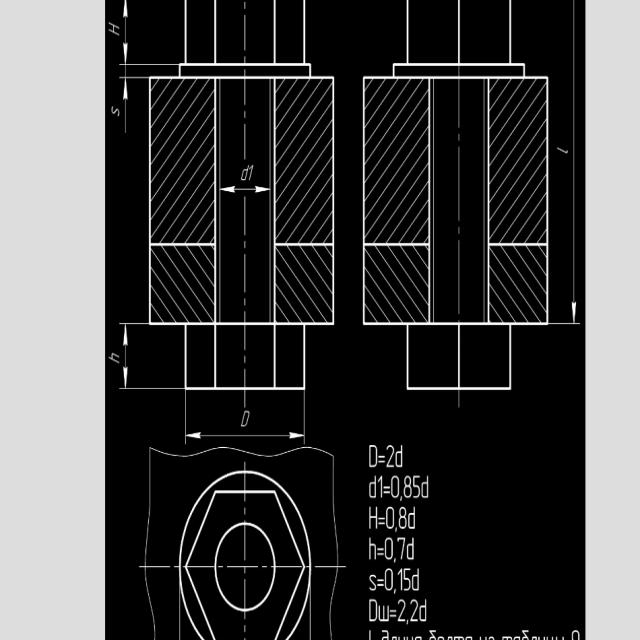marking_line: (549, 0, 583, 326), (184, 392, 307, 446), (120, 2, 178, 68), (116, 321, 147, 391), (119, 76, 148, 135), (220, 182, 270, 194)
numeric: (385, 444, 396, 469), (390, 473, 400, 499), (385, 505, 395, 531), (383, 538, 394, 560), (385, 566, 394, 592), (397, 599, 406, 625), (404, 564, 412, 592), (403, 472, 411, 500), (397, 535, 405, 561), (410, 597, 418, 623), (412, 473, 420, 499), (398, 507, 407, 530), (108, 21, 120, 37), (397, 566, 403, 593), (555, 145, 569, 156), (241, 408, 249, 427), (109, 352, 121, 364), (110, 102, 119, 116), (240, 167, 249, 181), (248, 164, 254, 179)
